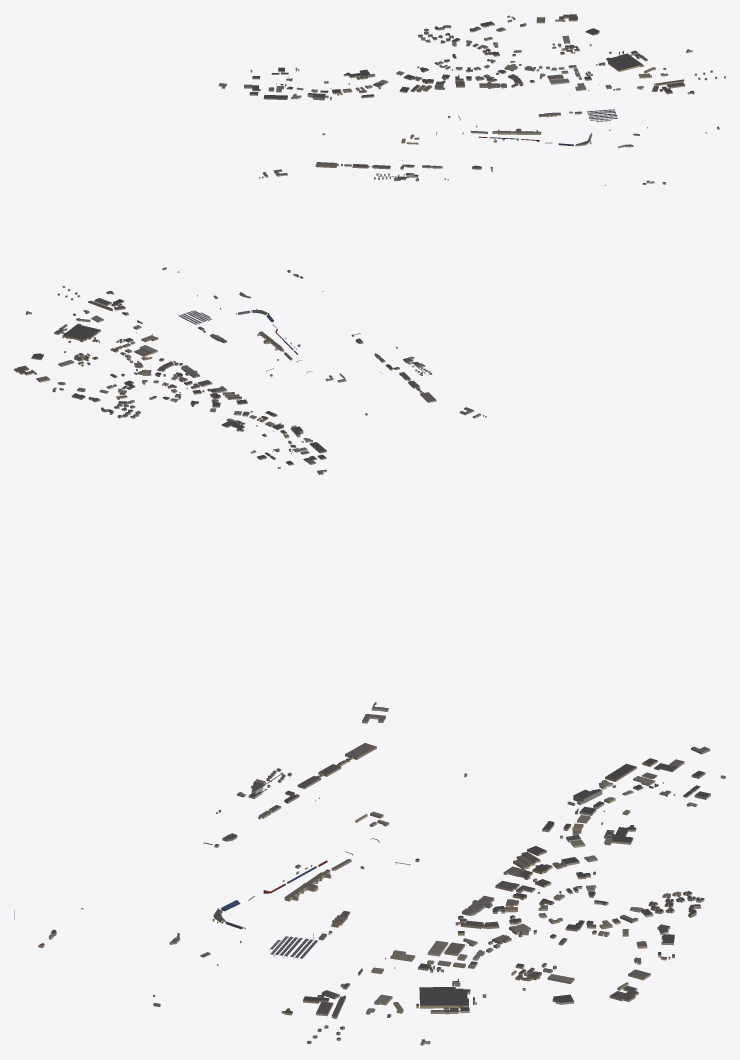
File: scenery.glb
3 views of the same model, one above another, from view 1: azimuth 30°, elevation 25°; view 2: azimuth 150°, elevation 25°; view 3: azimuth 270°, elevation 25° (orthographic). The views are drawn at different scales.
Visible parts, largest first — view 1: chunk_17_14, chunk_16_14, chunk_15_14, chunk_16_13, chunk_13_13, chunk_14_13, chunk_17_15, chunk_13_16; view 2: chunk_16_14, chunk_15_14, chunk_17_14, chunk_16_13, chunk_13_13, chunk_17_15, chunk_14_13, chunk_15_13; view 3: chunk_16_14, chunk_17_14, chunk_15_14, chunk_13_13, chunk_16_13, chunk_14_13, chunk_17_15, chunk_17_13, chunk_15_13.
Part boxes in pixels (<box>): chunk_17_14: <box>558,43,647,71</box>; chunk_16_14: <box>504,46,590,86</box>; chunk_15_14: <box>434,64,518,89</box>; chunk_16_13: <box>466,16,554,63</box>; chunk_13_13: <box>268,78,352,100</box>; chunk_14_13: <box>343,69,422,93</box>; chunk_17_15: <box>615,65,685,94</box>; chunk_13_16: <box>373,164,448,181</box>; chunk_16_14: <box>87,339,175,375</box>; chunk_15_14: <box>153,362,227,394</box>; chunk_17_14: <box>54,324,100,364</box>; chunk_16_13: <box>52,364,147,402</box>; chunk_13_13: <box>262,421,312,454</box>; chunk_17_15: <box>73,298,140,324</box>; chunk_14_13: <box>210,399,268,431</box>; chunk_15_13: <box>114,389,198,413</box>; chunk_16_14: <box>427,920,546,972</box>; chunk_17_14: <box>419,967,552,1014</box>; chunk_15_14: <box>458,866,554,924</box>; chunk_13_13: <box>567,772,671,823</box>; chunk_16_13: <box>548,914,674,969</box>; chunk_14_13: <box>552,822,636,869</box>; chunk_17_15: <box>303,970,418,1018</box>; chunk_17_13: <box>547,969,650,1004</box>; chunk_15_13: <box>553,871,674,917</box>.
Bounding box in the file's own units: 4268 × 101 × 2362.
